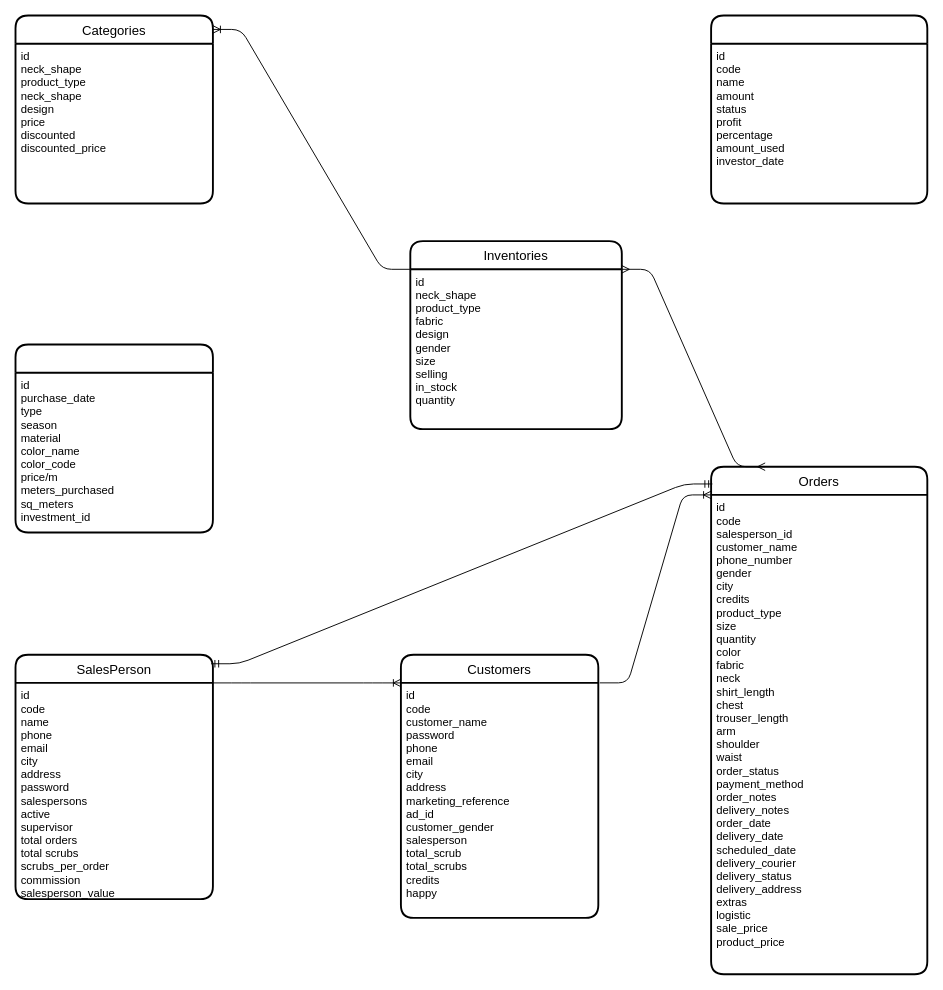
This 943x990 diagram has some shape labels left out. Each missing label, with the box of its shape:
Investments: (710, 14, 928, 204)
Raw Material: (14, 343, 213, 533)
